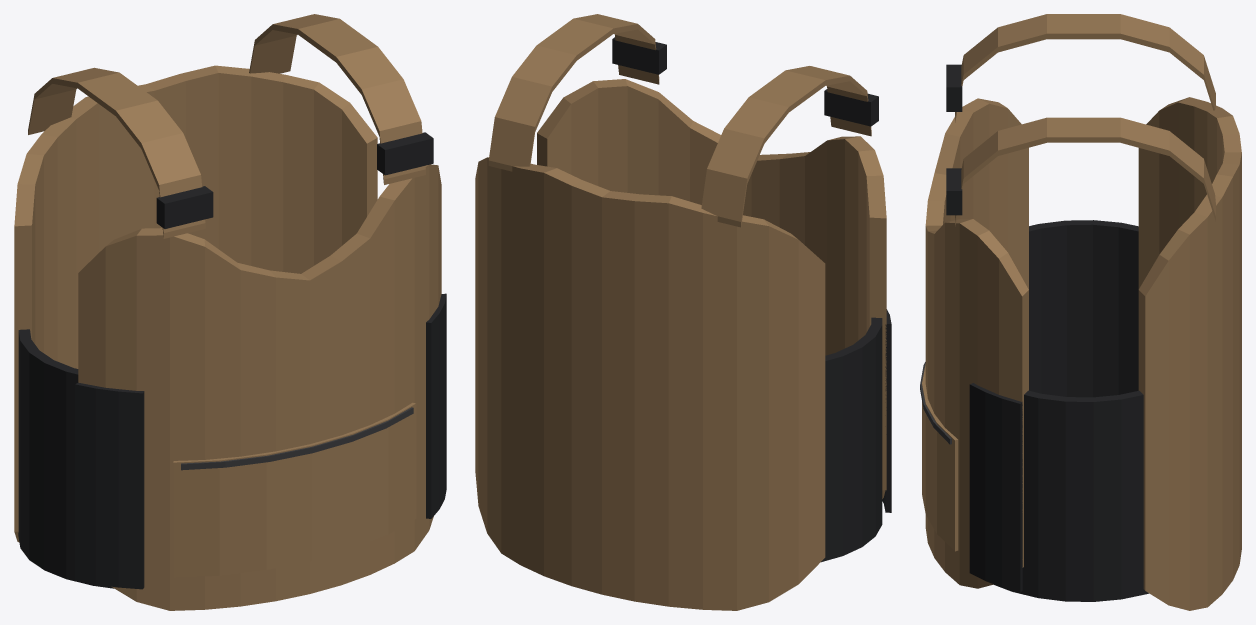
The model's file is soft-vest-coyote.glb.
3 views of the same model, side by side, from view 1: azimuth 30°, elevation 25°; view 2: azimuth 150°, elevation 25°; view 3: azimuth 270°, elevation 25° (orthographic). The views are drawn at different scales.
Visible parts, largest first — view 1: soft-vest-coyote; view 2: soft-vest-coyote; view 3: soft-vest-coyote.
Boxes of the visible parts, <box> form: soft-vest-coyote: <box>14,14,446,610</box>; soft-vest-coyote: <box>475,14,891,610</box>; soft-vest-coyote: <box>920,14,1241,610</box>.
Size of the model in its own units: 0.3513 by 0.427 by 0.2625.
1 material, 1 textured.
